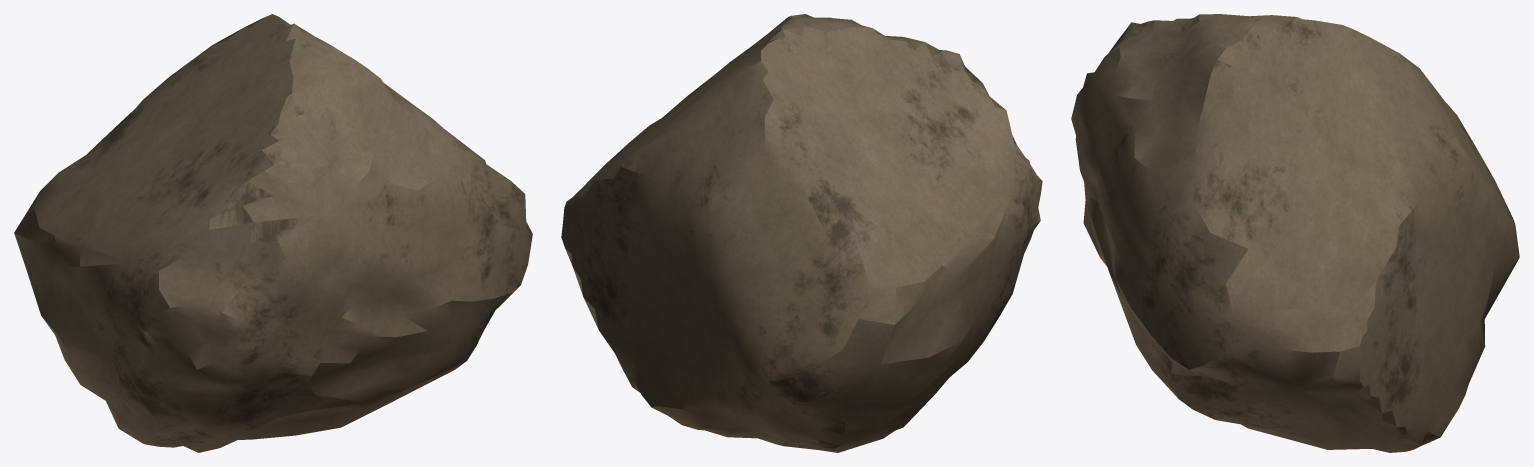
The model's file is prop_boulder3.glb.
3 views of the same model, side by side, from view 1: azimuth 30°, elevation 25°; view 2: azimuth 150°, elevation 25°; view 3: azimuth 270°, elevation 25° (orthographic). The views are drawn at different scales.
Parts seen in each view (by area): view 1: BoulderMesh; view 2: BoulderMesh; view 3: BoulderMesh.
Part boxes in pixels (x1=…): BoulderMesh: x1=14, y1=14, x2=532, y2=452; BoulderMesh: x1=561, y1=14, x2=1042, y2=452; BoulderMesh: x1=1071, y1=14, x2=1519, y2=452.
Bounding box in the file's own units: 1.67 × 1.51 × 1.45.
1 material, 1 textured.
